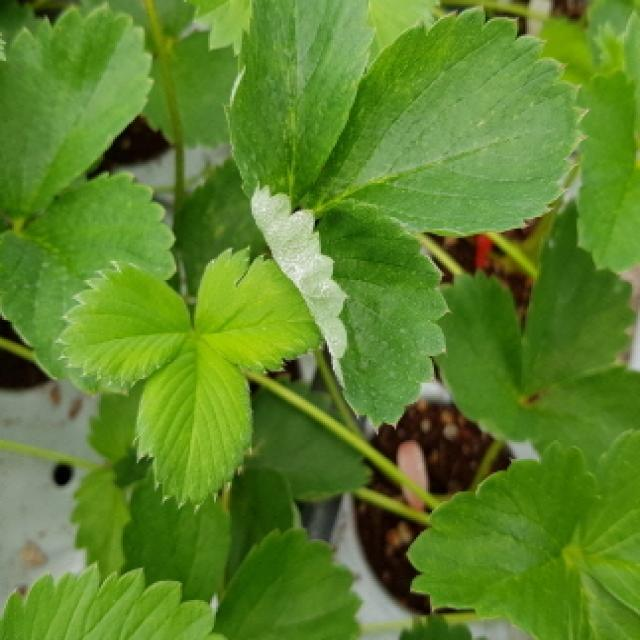Powdery Mildew Leaf: (249, 181, 452, 435), (224, 0, 377, 210)
